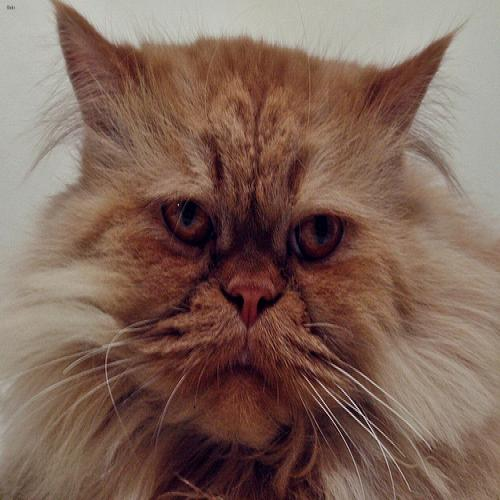persian: (40, 1, 475, 468)
